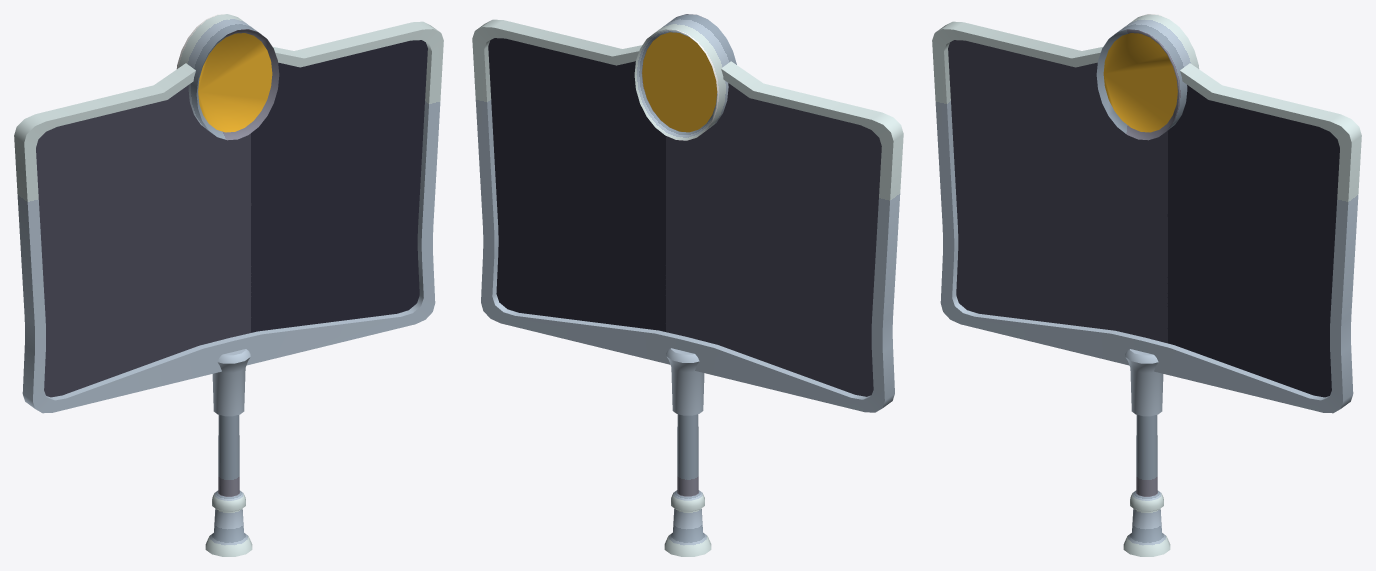
Rendered from cartel.fbx.
3 renders of one model, left to right at view 1: azimuth 30°, elevation 25°; view 2: azimuth 150°, elevation 25°; view 3: azimuth 330°, elevation 25°, orthographic.
Parts seen in each view (by area): view 1: cartel; view 2: cartel; view 3: cartel.
Part boxes in pixels (x1=…): cartel: x1=14, y1=14, x2=443, y2=556; cartel: x1=472, y1=14, x2=903, y2=556; cartel: x1=932, y1=14, x2=1361, y2=556.
Size of the model in its own units: 537 by 641 by 52.29.
